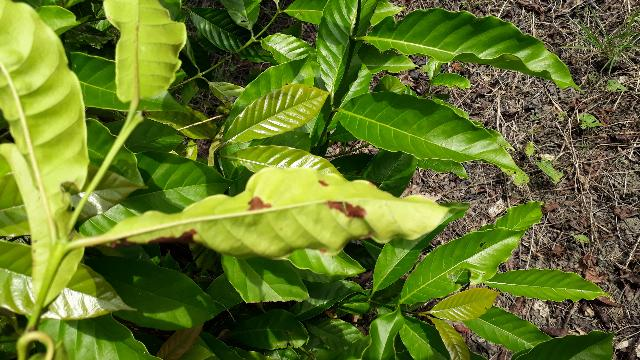red_spider_mite: (81, 164, 472, 258)
